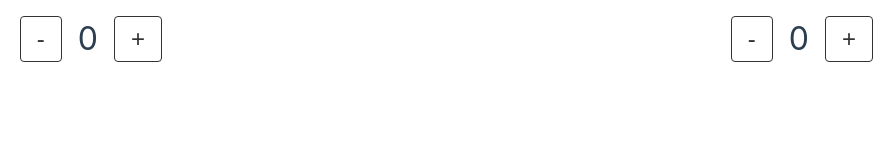
Counter › 카운트가 제한 내에서 변경될 때 메시지를 지웁니다
# Max limit
Click the 2nd button with class "increase". click: [849, 39]
box: [825,16,873,62]
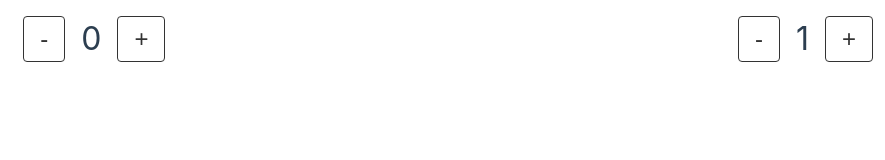
Click the 2nd button with class "increase". click: [849, 39]
box: [825,16,873,62]
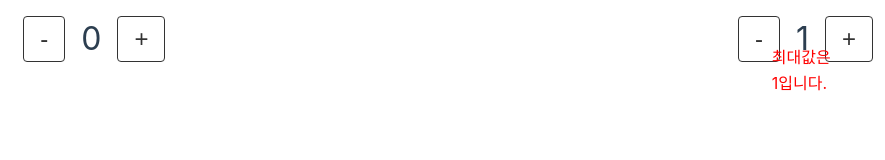
Expected: the text "최대값은 1입니다." is shown, [772,45,839,97]
# Clear message
Click the button with class "decrease" next to "최대값은 1입니다.". click: [759, 39]
box: [738,16,780,62]
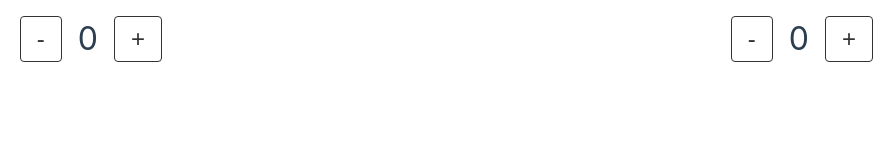
Expected: the text "최대값은 1입니다." is gone
# Min limit
Click the 2nd button with class "decrease". click: [752, 39]
box: [731,16,773,62]
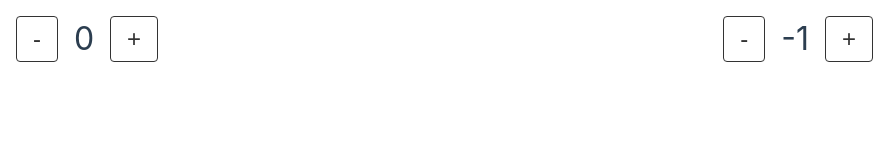
Click the button with class "decrease" next to "-1". click: [744, 39]
box: [723,16,765,62]
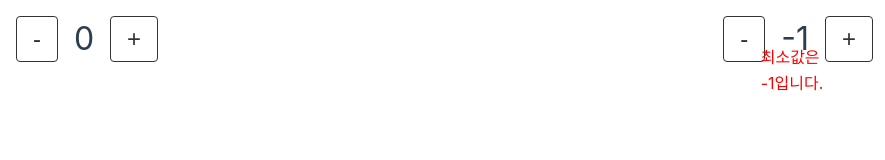
Expected: the text "최소값은 -1입니다." is shown, [761,47,823,93]
# Clear message
Click the button with class "increase" next to "최소값은 -1입니다.". click: [849, 39]
box: [825,16,873,62]
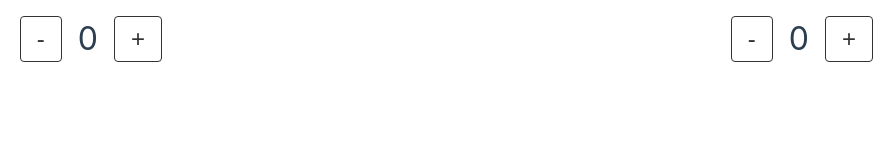
Expected: the text "최소값은 -1입니다." is gone
